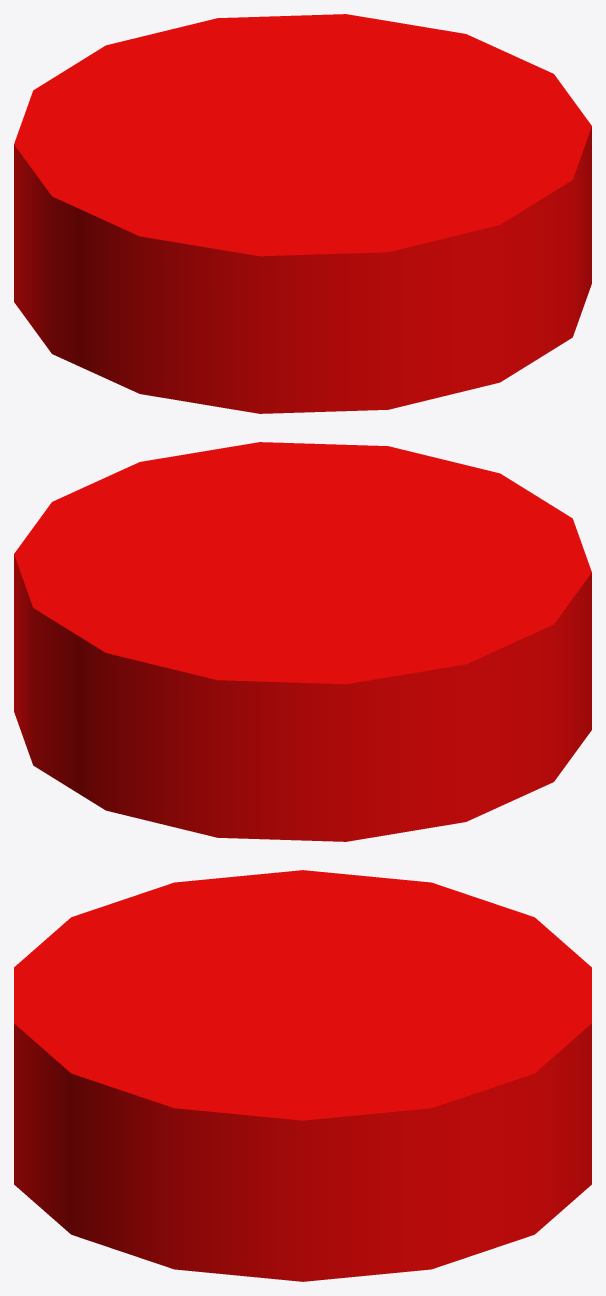
File: maru.obj
3 renders of one model, top to bottom at view 1: azimuth 30°, elevation 25°; view 2: azimuth 150°, elevation 25°; view 3: azimuth 270°, elevation 25°, orthographic. The views are drawn at different scales.
Visible parts, largest first — view 1: pCylinder1; view 2: pCylinder1; view 3: pCylinder1.
Part boxes in pixels (box(x1,y1,x2,y2)): pCylinder1: box(14, 14, 591, 413); pCylinder1: box(14, 442, 591, 841); pCylinder1: box(14, 870, 591, 1281).
Bounding box in the file's own units: 2 × 0.6001 × 1.95.
1 material, 1 textured.
